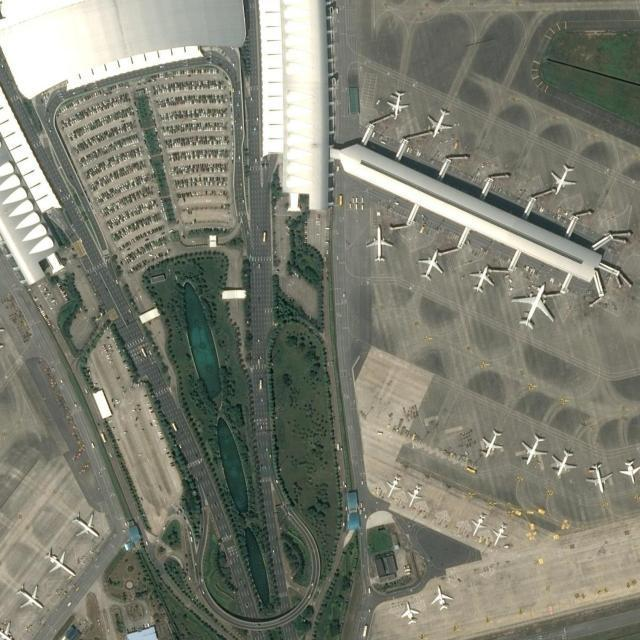Aircraft: (512, 282, 556, 328), (367, 225, 393, 262), (521, 433, 549, 467), (551, 164, 579, 195), (46, 550, 78, 576), (587, 460, 613, 492), (74, 512, 104, 538), (420, 249, 444, 281), (16, 585, 45, 611), (552, 450, 578, 478), (470, 265, 496, 293), (430, 107, 454, 137), (482, 430, 506, 459), (387, 89, 410, 119), (431, 585, 453, 612), (620, 458, 640, 483), (401, 601, 420, 625), (408, 484, 424, 508), (493, 524, 508, 548), (387, 474, 403, 496), (472, 514, 487, 536), (0, 621, 17, 640)
